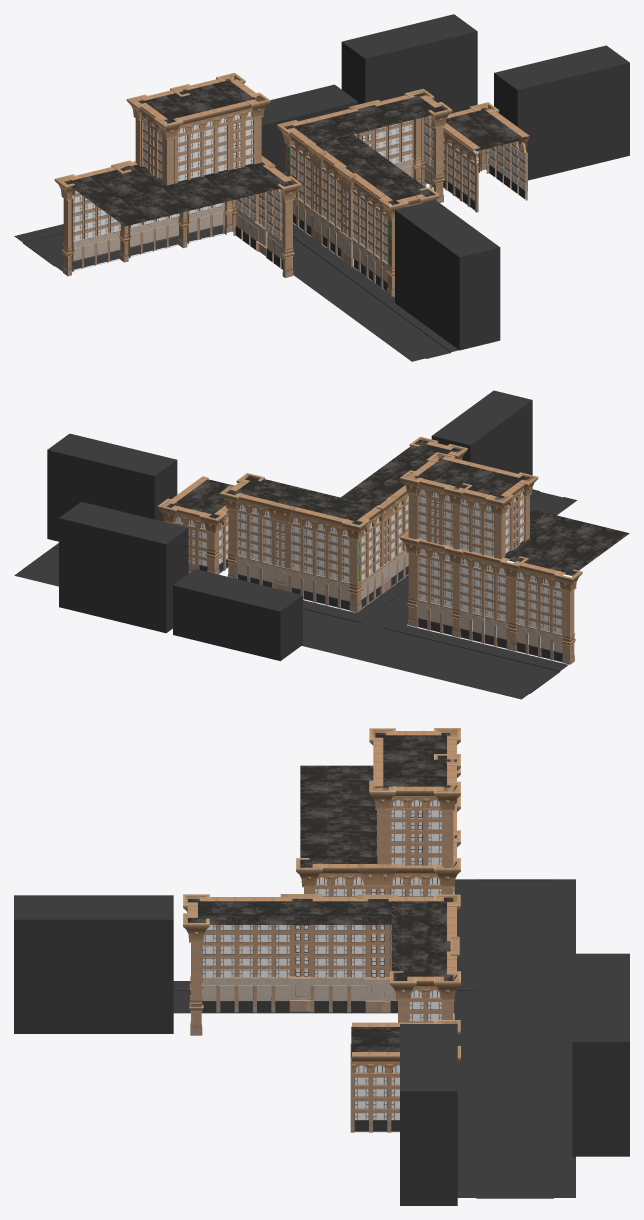
File: los_angeles_building.glb
3 views of the same model, one above another, from view 1: azimuth 30°, elevation 25°; view 2: azimuth 150°, elevation 25°; view 3: azimuth 270°, elevation 25° (orthographic). The views are drawn at different scales.
Visible parts, largest first — view 1: Scene_scene_0, Building 3, Building 1, Building 2; view 2: Scene_scene_0, Building 3, Building 1, Building 2; view 3: Scene_scene_0, Building 1, Building 3, Building 2.
Boxes of the visible parts, bbox=[...] form: Scene_scene_0: bbox=[14, 14, 629, 361]; Building 3: bbox=[54, 72, 301, 277]; Building 1: bbox=[277, 89, 452, 296]; Building 2: bbox=[443, 102, 529, 212]; Scene_scene_0: bbox=[14, 390, 577, 699]; Building 3: bbox=[400, 452, 629, 664]; Building 1: bbox=[219, 436, 467, 612]; Building 2: bbox=[157, 476, 234, 574]; Scene_scene_0: bbox=[14, 879, 629, 1205]; Building 1: bbox=[183, 894, 460, 1035]; Building 3: bbox=[296, 728, 460, 896]; Building 2: bbox=[350, 1020, 460, 1132].
Bounding box in the file's own units: 239 × 64.84 × 189.
Materials: 3 (2 with a texture image).
